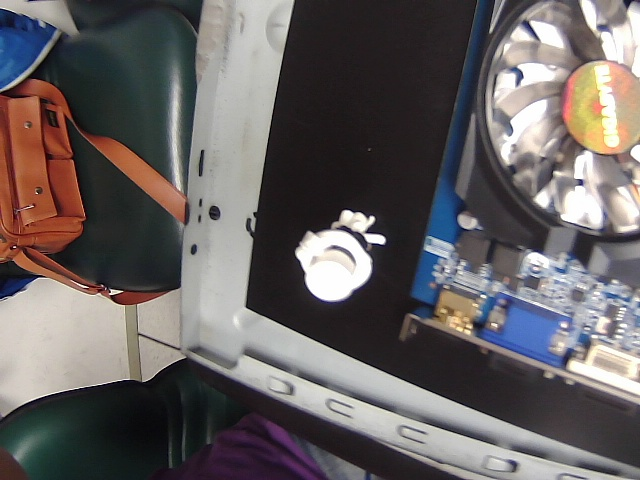lucci: (292, 202, 395, 306)
